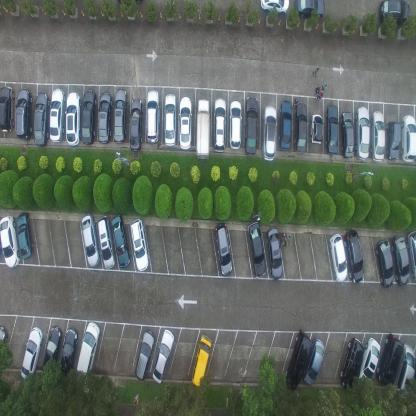car: (284, 329, 313, 391), (75, 321, 101, 382), (375, 332, 404, 386), (340, 336, 364, 392), (356, 336, 381, 387), (21, 326, 44, 381), (152, 328, 174, 384), (392, 342, 415, 395), (190, 334, 212, 387), (343, 229, 364, 284), (110, 212, 130, 268), (134, 329, 155, 382), (130, 217, 150, 272), (58, 328, 79, 380), (390, 233, 410, 287), (97, 214, 116, 270), (248, 220, 266, 279), (0, 215, 20, 268), (81, 214, 100, 269), (42, 324, 62, 376), (304, 338, 325, 387), (214, 222, 233, 275), (329, 232, 348, 283), (261, 105, 277, 162), (244, 96, 259, 156), (80, 90, 96, 146), (49, 87, 65, 143), (34, 91, 50, 147), (15, 88, 32, 140), (376, 239, 394, 288), (16, 211, 34, 260), (65, 91, 81, 146), (266, 226, 282, 281), (196, 98, 210, 160), (378, 0, 411, 26), (112, 88, 127, 144), (355, 105, 370, 160), (97, 91, 112, 145), (178, 95, 192, 151), (277, 100, 292, 152), (146, 89, 160, 144), (0, 86, 15, 134), (325, 104, 339, 155), (214, 96, 226, 154), (402, 114, 416, 163), (294, 101, 307, 153), (372, 110, 385, 162), (130, 96, 142, 152), (340, 110, 354, 158), (164, 92, 176, 147), (229, 100, 242, 150), (386, 121, 401, 162), (295, 0, 326, 19), (406, 229, 416, 282), (259, 0, 290, 15), (310, 112, 323, 146), (0, 324, 9, 367)
